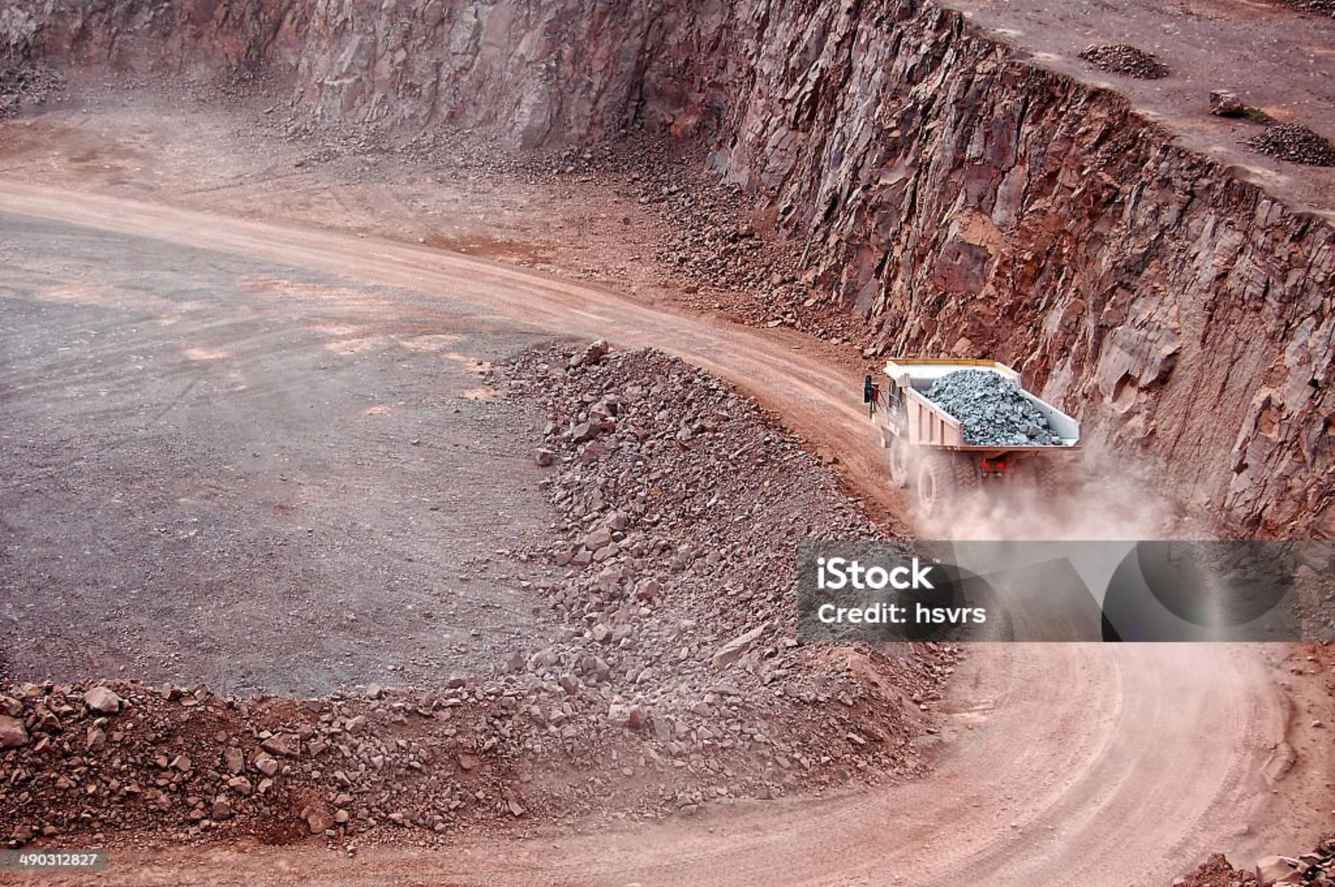benches: (0, 173, 907, 524), (383, 643, 1334, 886)
truck: (871, 358, 1079, 518), (880, 360, 1067, 521)
wall: (0, 0, 1334, 537)
